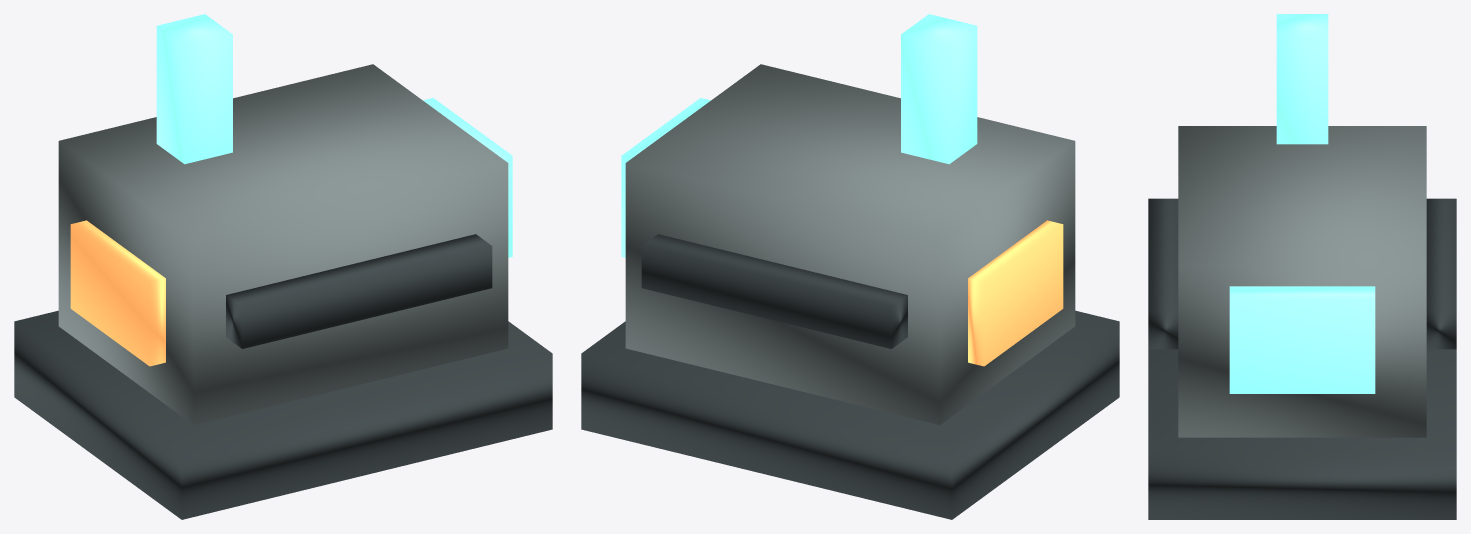
Rendered from interactable-salvage-tag-node-lod1.glb.
The picture shows the model from 3 angles, left to right: view 1: azimuth 30°, elevation 25°; view 2: azimuth 150°, elevation 25°; view 3: azimuth 270°, elevation 25°; orthographic projection. The views are drawn at different scales.
Parts seen in each view (by area): view 1: interactable-salvage-case, interactable-salvage-base, interactable-salvage-restraint-left, interactable-salvage-beacon, interactable-salvage-tag-plate, interactable-salvage-tag-emitter; view 2: interactable-salvage-case, interactable-salvage-base, interactable-salvage-restraint-right, interactable-salvage-beacon, interactable-salvage-tag-plate, interactable-salvage-tag-emitter; view 3: interactable-salvage-case, interactable-salvage-base, interactable-salvage-tag-emitter, interactable-salvage-beacon, interactable-salvage-restraint-left, interactable-salvage-restraint-right.
Boxes of the visible parts, box(x1,y1,x2,y2) form: interactable-salvage-case: box(58, 64, 508, 424); interactable-salvage-base: box(14, 310, 552, 519); interactable-salvage-restraint-left: box(226, 234, 492, 348); interactable-salvage-beacon: box(156, 14, 232, 164); interactable-salvage-tag-plate: box(70, 220, 165, 366); interactable-salvage-tag-emitter: box(423, 98, 512, 257); interactable-salvage-case: box(625, 64, 1075, 424); interactable-salvage-base: box(581, 310, 1119, 519); interactable-salvage-restraint-right: box(641, 234, 907, 348); interactable-salvage-beacon: box(901, 14, 977, 164); interactable-salvage-tag-plate: box(968, 220, 1063, 366); interactable-salvage-tag-emitter: box(621, 98, 710, 257); interactable-salvage-case: box(1178, 126, 1426, 437); interactable-salvage-base: box(1148, 349, 1456, 519); interactable-salvage-tag-emitter: box(1229, 286, 1375, 393); interactable-salvage-beacon: box(1276, 14, 1328, 144); interactable-salvage-restraint-left: box(1148, 198, 1178, 349); interactable-salvage-restraint-right: box(1426, 198, 1456, 349).
Bounding box in the file's own units: 0.93 × 0.96 × 0.72.
